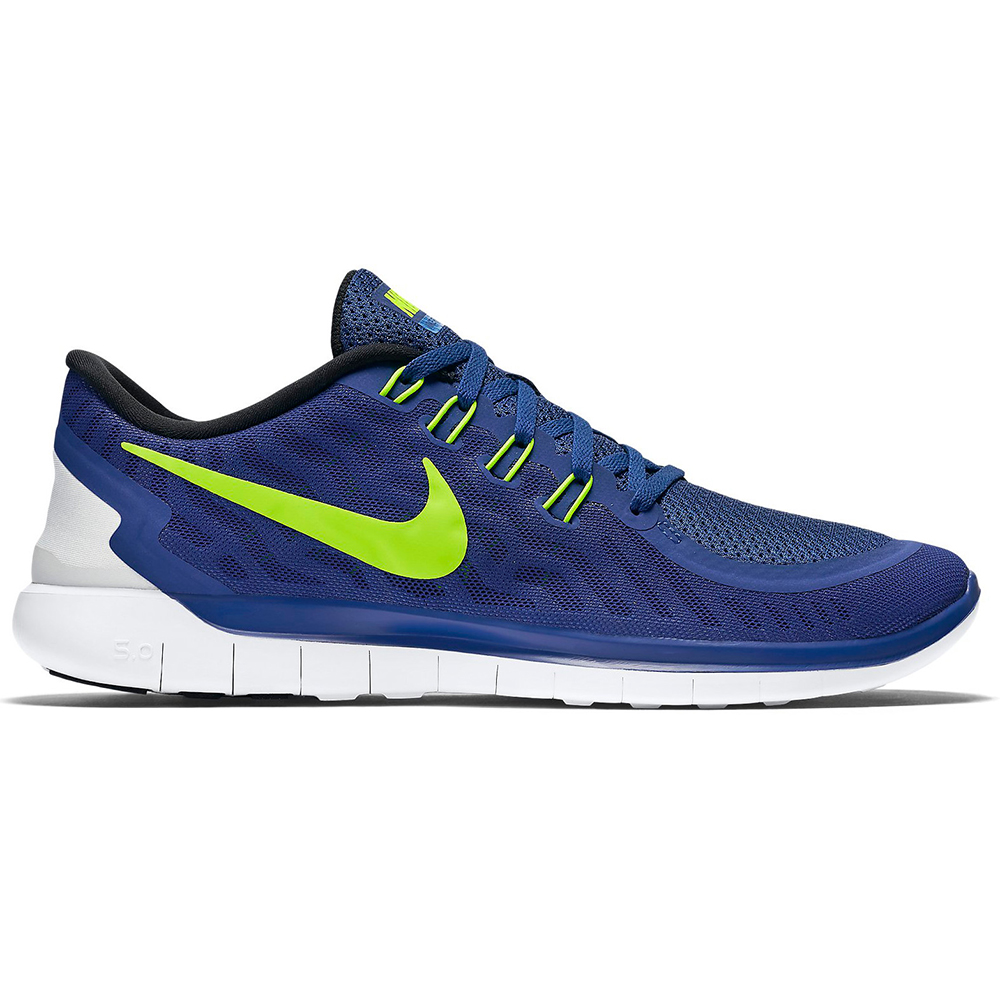Nike: (115, 434, 471, 585)
